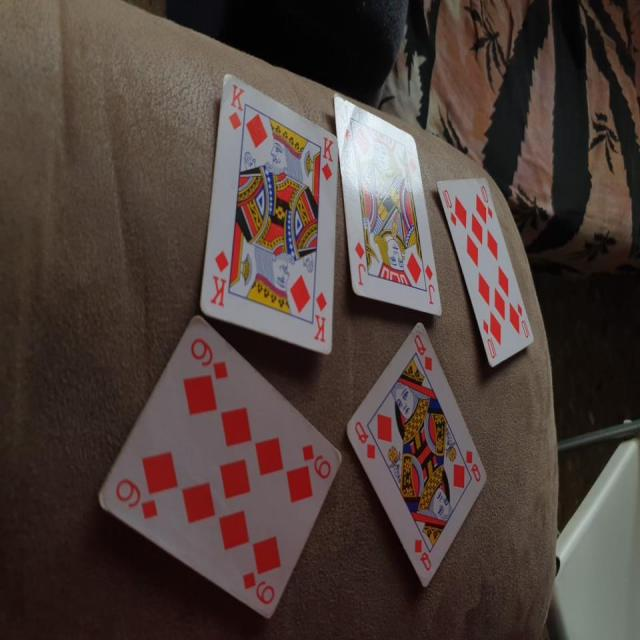10 Diamonds: (437, 174, 536, 369)
9 Diamonds: (94, 311, 344, 616)
J Diamonds: (331, 93, 443, 314)
K Diamonds: (198, 73, 340, 358)
Q Diamonds: (346, 320, 488, 592)
